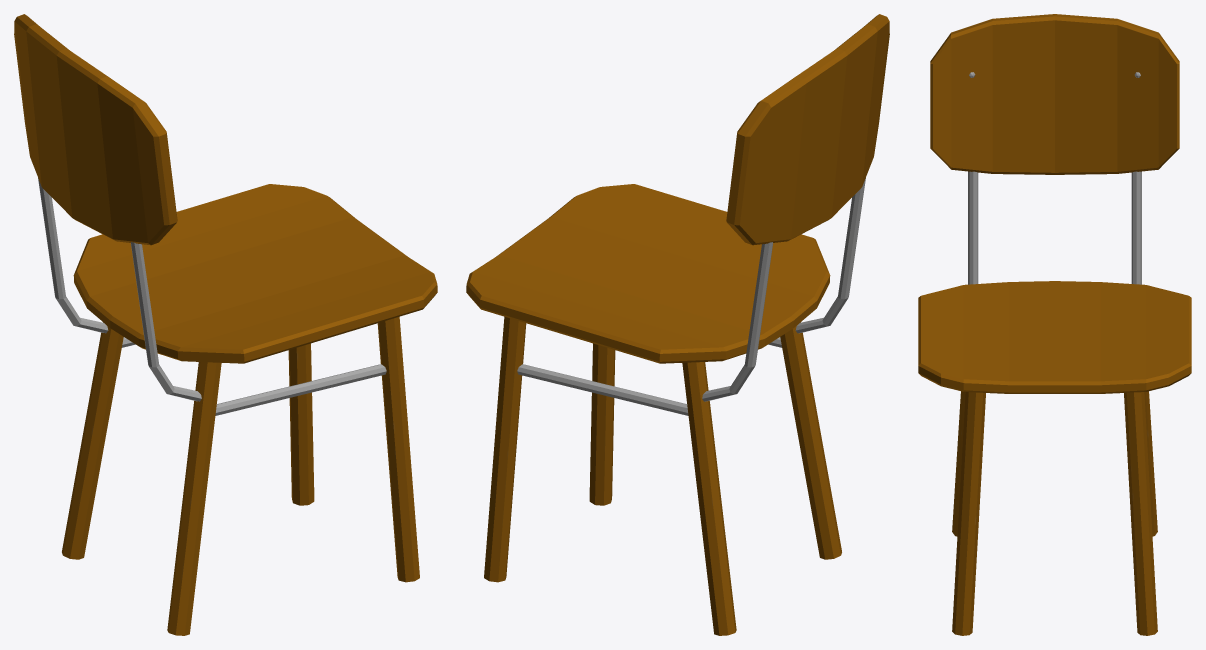
The model's file is Chair.fbx.
3 renders of one model, left to right at view 1: azimuth 30°, elevation 25°; view 2: azimuth 150°, elevation 25°; view 3: azimuth 270°, elevation 25°, orthographic. The views are drawn at different scales.
Parts seen in each view (by area): view 1: Cube; view 2: Cube; view 3: Cube.
Boxes of the visible parts, box(x1,y1,x2,y2) form: Cube: box(14, 14, 437, 635); Cube: box(466, 14, 889, 635); Cube: box(918, 14, 1191, 635).
Bounding box in the file's own units: 48.29 × 79.47 × 40.
